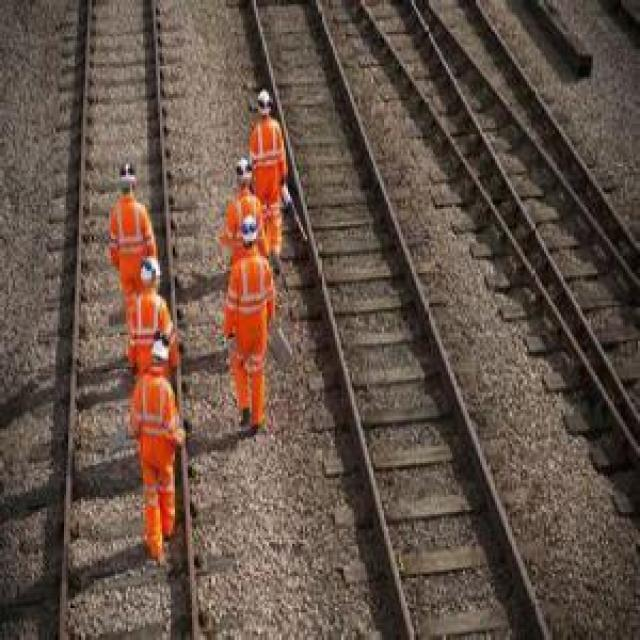rail: (233, 1, 568, 640), (350, 1, 640, 507), (34, 1, 227, 640)
